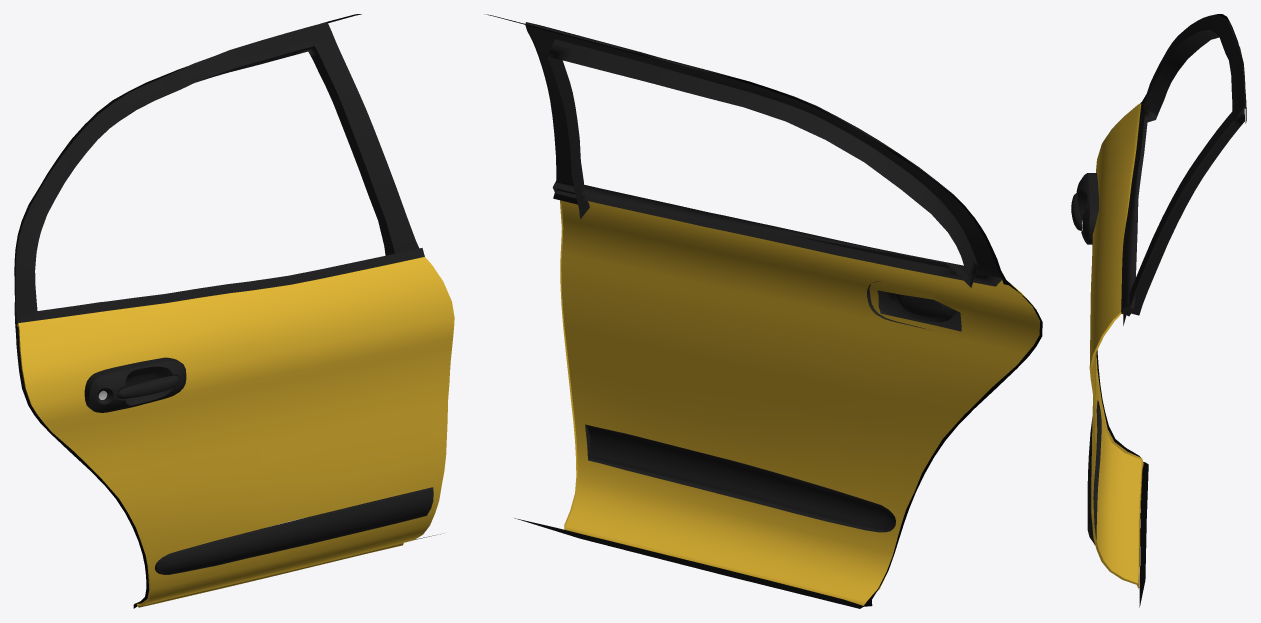
3 views of the same model, side by side, from view 1: azimuth 30°, elevation 25°; view 2: azimuth 150°, elevation 25°; view 3: azimuth 270°, elevation 25° (orthographic). The views are drawn at different scales.
Parts seen in each view (by area): view 1: P353_20_321B_R_P353_20_321B_R_1_DaS, P353_20_321B_R_2_D_P353_20_321B_R, P353_20_321B_R_P353_20_321B_R_3_D; view 2: P353_20_321B_R_P353_20_321B_R_1_DaS, P353_20_321B_R_2_D_P353_20_321B_R, P353_20_321B_R_P353_20_321B_R_3_D, P353_20_321B_R_P353_20_321B_R_1_DaS_E; view 3: P353_20_321B_R_P353_20_321B_R_1_DaS, P353_20_321B_R_2_D_P353_20_321B_R, P353_20_321B_R_P353_20_321B_R_1_DaS_E, P353_20_321B_R_P353_20_321B_R_3_D.
Part boxes in pixels (x1,y1,x2,y2): P353_20_321B_R_P353_20_321B_R_1_DaS: (18,257,454,607); P353_20_321B_R_2_D_P353_20_321B_R: (15,22,433,574); P353_20_321B_R_P353_20_321B_R_3_D: (14,14,440,608); P353_20_321B_R_P353_20_321B_R_1_DaS: (561,201,1040,605); P353_20_321B_R_2_D_P353_20_321B_R: (525,22,1001,532); P353_20_321B_R_P353_20_321B_R_3_D: (484,14,1042,608); P353_20_321B_R_P353_20_321B_R_1_DaS_E: (560,200,1033,602); P353_20_321B_R_P353_20_321B_R_1_DaS: (1089,103,1142,583); P353_20_321B_R_2_D_P353_20_321B_R: (1071,15,1245,544); P353_20_321B_R_P353_20_321B_R_1_DaS_E: (1089,312,1143,588); P353_20_321B_R_P353_20_321B_R_3_D: (1096,14,1246,607).
Bounding box in the file's own units: 114 × 119 × 40.13.
